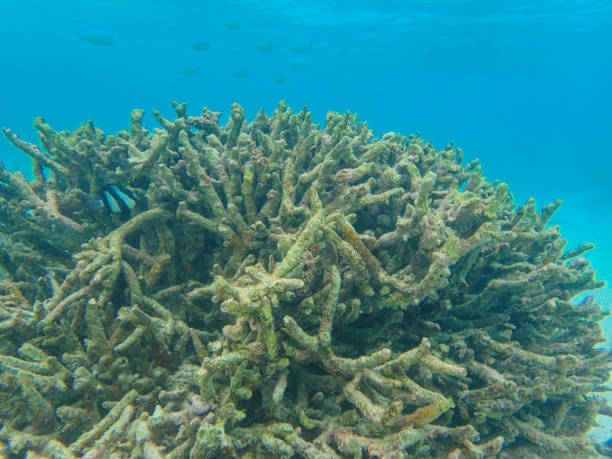dead: (1, 100, 602, 459)
